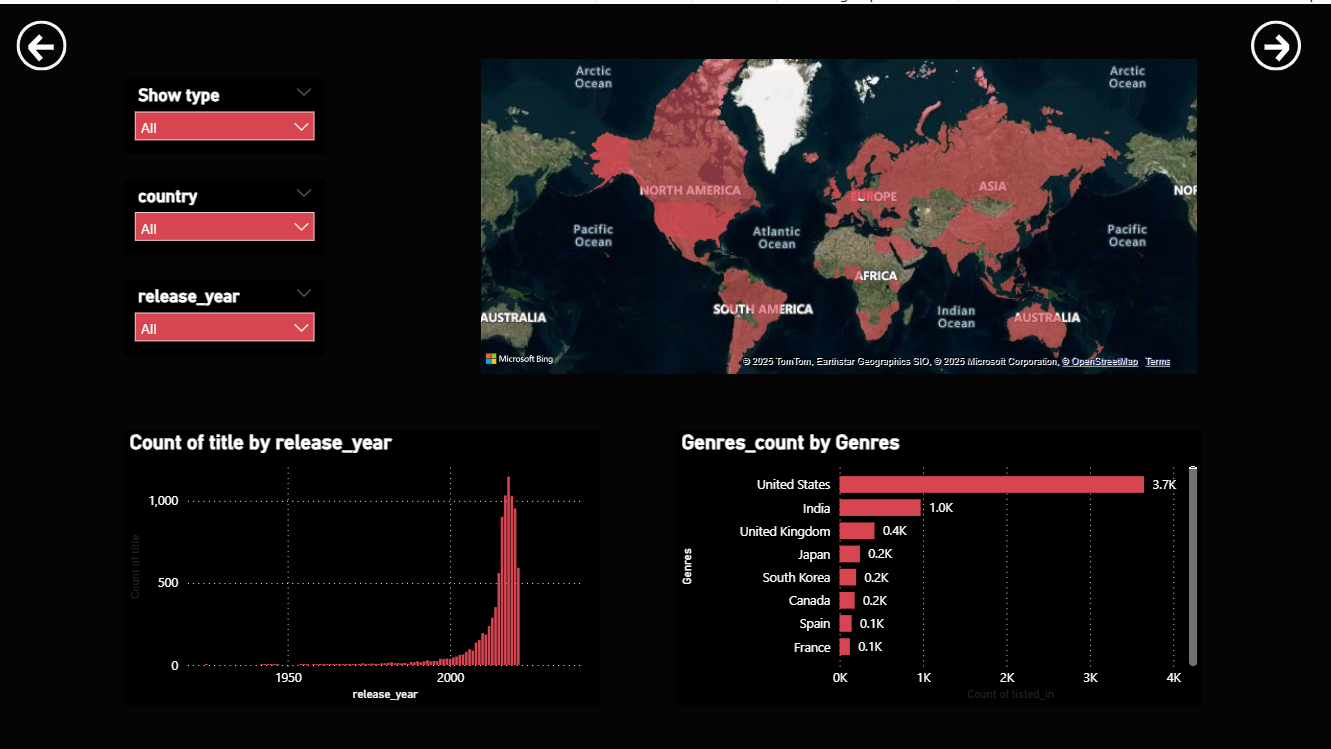

Layout of this report page (visuals, bound fields, positions):
{"tool":"powerbi","page":{"name":"Country Insights","canvas":[1280,720],"ordinal":2},"visuals":[{"type":"slicer","fields":{"Values":["netflix_titles.type"]},"box":[120,72,192,72],"z":0},{"type":"slicer","fields":{"Values":["netflix_titles.country"]},"box":[120,168,192,72],"z":1000},{"type":"slicer","fields":{"Values":["netflix_titles.release_year"]},"box":[120,264,192,72],"z":2000},{"type":"filledMap","fields":{"Category":["netflix_titles.country"]},"box":[456,48,696,312],"z":3000},{"type":"columnChart","fields":{"Category":["netflix_titles.release_year"],"Y":["CountNonNull(netflix_titles.title)"]},"box":[120,408,456,264],"z":4000},{"type":"barChart","title":"Genres_count by Genres","fields":{"Category":["netflix_titles.country"],"Y":["CountNonNull(netflix_titles.listed_in)"]},"box":[648,408,504,264],"z":5000},{"type":"actionButton","box":[1200,16,48,48],"z":6000},{"type":"actionButton","box":[16,16,48,48],"z":7000}]}

Visuals, with their boxes in screenshot pixels (x1, y1, x2, y2), scaled from the page's 1280x720 canvas onto the 1331x749 screenshot:
slicer - netflix_titles.type: <box>125,75,324,150</box>
slicer - netflix_titles.country: <box>125,175,324,250</box>
slicer - netflix_titles.release_year: <box>125,275,324,350</box>
filledMap - netflix_titles.country: <box>474,50,1198,374</box>
columnChart - netflix_titles.release_year x CountNonNull(netflix_titles.title): <box>125,424,599,699</box>
"Genres_count by Genres" barChart: <box>674,424,1198,699</box>
actionButton: <box>1248,17,1298,67</box>
actionButton: <box>17,17,67,67</box>
